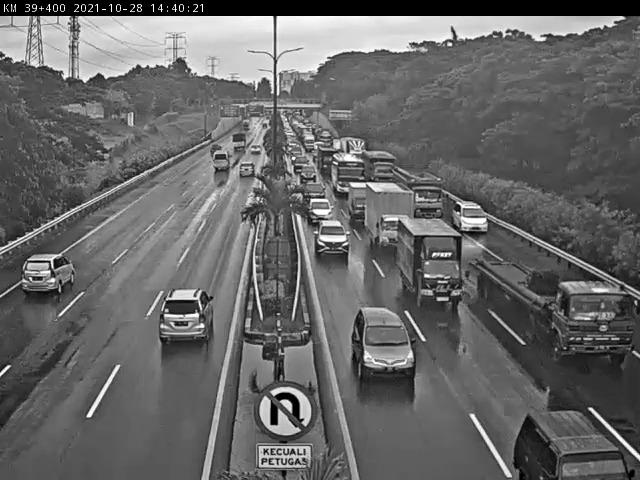big bus: (331, 155, 365, 195)
big truck: (470, 245, 639, 365)
car: (351, 306, 419, 377), (153, 289, 213, 345), (21, 253, 80, 295), (313, 219, 350, 255), (452, 201, 492, 233), (308, 196, 332, 220), (301, 181, 327, 202), (238, 161, 256, 176)
mid truck: (390, 163, 442, 218)
small bus: (211, 152, 232, 174)
small truck: (397, 215, 461, 300), (359, 175, 405, 240), (347, 183, 365, 218)
